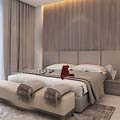copymove: (16, 78, 46, 101)
removal: (42, 24, 72, 49)
spliced: (59, 64, 74, 80)
